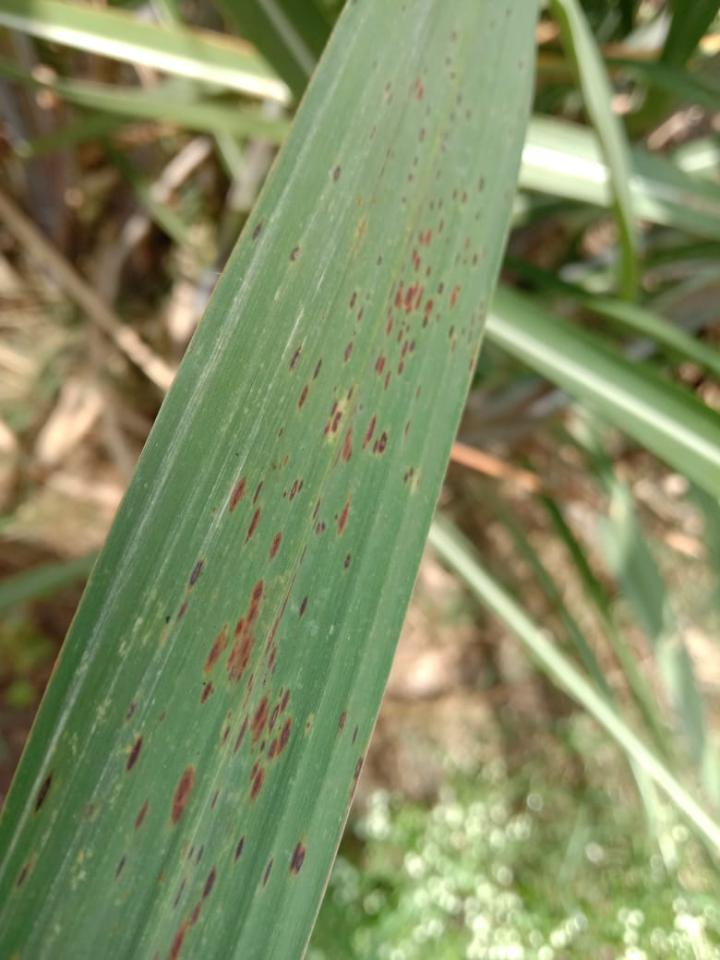Rust: (222, 576, 266, 688), (162, 761, 198, 836), (248, 687, 273, 758), (200, 621, 228, 674), (125, 790, 151, 838), (32, 765, 54, 819), (333, 488, 354, 541), (285, 833, 309, 879), (123, 732, 146, 778), (346, 757, 366, 805), (228, 475, 250, 518), (280, 570, 299, 619), (13, 854, 36, 893), (166, 877, 190, 914), (111, 850, 134, 888), (167, 918, 188, 959), (243, 507, 265, 546), (263, 616, 284, 656), (186, 557, 206, 593), (362, 412, 379, 453), (234, 711, 249, 757), (201, 865, 219, 902), (266, 529, 285, 561), (249, 765, 265, 803), (230, 831, 245, 871), (279, 714, 291, 761), (294, 381, 312, 412), (259, 856, 276, 888), (197, 676, 214, 708), (342, 427, 356, 462), (287, 344, 303, 374), (173, 596, 190, 624), (341, 544, 355, 578), (412, 279, 426, 313), (338, 703, 351, 739), (421, 297, 435, 329), (121, 700, 138, 726), (296, 589, 309, 623), (266, 703, 279, 737), (402, 283, 414, 318), (217, 722, 232, 749), (189, 898, 203, 926), (311, 354, 324, 384), (208, 785, 222, 812), (438, 128, 452, 155), (393, 279, 404, 312), (251, 478, 264, 505), (448, 284, 462, 309), (413, 76, 426, 102), (311, 496, 323, 524), (251, 216, 264, 241), (287, 477, 299, 504), (302, 715, 318, 735), (349, 720, 360, 749), (344, 339, 356, 365), (331, 411, 344, 435), (266, 736, 278, 761), (242, 686, 254, 710), (383, 366, 394, 392), (374, 356, 387, 378), (281, 688, 292, 714), (195, 843, 206, 868), (288, 245, 302, 264), (271, 425, 285, 443), (378, 428, 387, 456), (403, 419, 413, 444), (257, 735, 268, 757), (156, 706, 168, 726), (248, 759, 260, 779), (385, 145, 398, 163), (267, 645, 276, 670), (348, 289, 357, 312), (299, 544, 308, 567), (331, 165, 341, 185), (186, 842, 195, 864), (417, 126, 428, 144), (329, 398, 339, 417), (345, 383, 354, 404), (334, 447, 342, 470), (281, 452, 290, 472), (368, 124, 377, 144), (516, 56, 525, 76), (315, 520, 327, 534), (246, 672, 255, 690), (435, 280, 445, 296), (478, 175, 486, 194), (448, 109, 457, 125), (149, 946, 160, 959), (371, 196, 382, 209), (384, 92, 394, 106), (226, 706, 234, 723), (436, 218, 444, 235), (449, 29, 458, 44), (414, 257, 421, 276), (421, 65, 431, 78), (453, 251, 461, 267), (277, 684, 285, 700), (455, 92, 463, 108), (415, 383, 422, 401), (409, 337, 416, 355), (377, 165, 386, 179), (370, 58, 379, 72), (354, 196, 363, 210), (323, 420, 331, 435), (464, 109, 472, 124), (418, 228, 425, 245), (425, 228, 432, 245), (470, 310, 475, 333), (387, 318, 393, 337), (460, 190, 467, 206), (504, 5, 512, 19), (444, 56, 454, 67), (401, 340, 407, 358), (298, 477, 304, 495), (464, 235, 471, 250), (450, 188, 458, 201), (412, 155, 420, 168), (398, 359, 404, 376), (400, 3, 409, 14), (425, 264, 432, 278), (460, 323, 467, 337), (411, 248, 418, 262), (435, 168, 442, 182), (385, 80, 392, 94), (451, 339, 457, 355), (468, 357, 474, 373), (407, 466, 415, 478), (397, 328, 404, 341), (425, 104, 432, 117), (386, 303, 392, 318), (280, 489, 288, 500), (375, 255, 383, 266), (406, 172, 414, 183), (449, 72, 457, 83), (449, 322, 454, 339), (472, 253, 478, 267), (404, 323, 411, 334), (403, 472, 409, 484), (444, 235, 450, 247), (373, 440, 378, 454), (429, 201, 435, 212), (436, 313, 441, 326), (438, 197, 443, 210), (358, 308, 363, 320), (262, 675, 267, 687), (401, 194, 407, 204), (468, 330, 472, 344), (332, 385, 339, 393), (399, 319, 406, 327), (462, 258, 469, 266), (359, 402, 363, 413)
